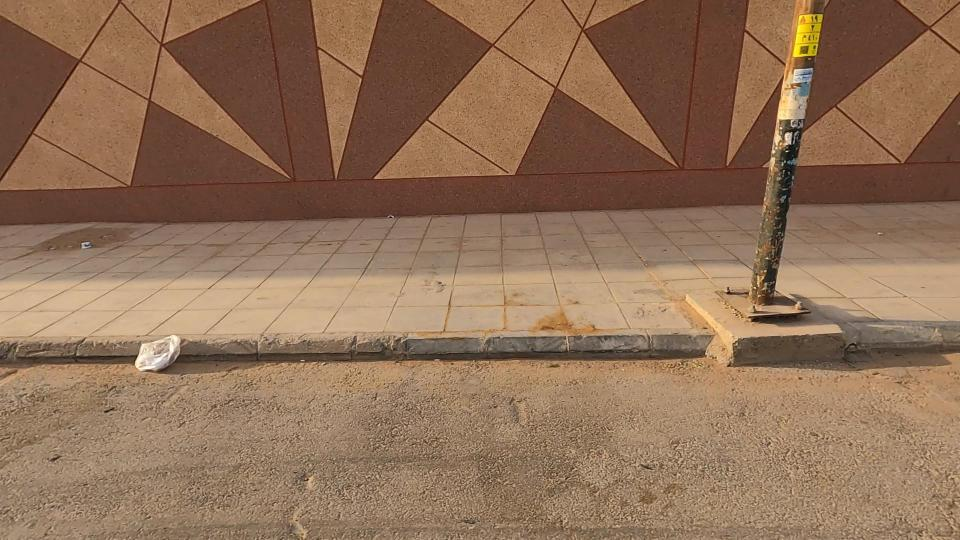GARBAGE: (45, 314, 244, 403), (58, 222, 108, 271)
